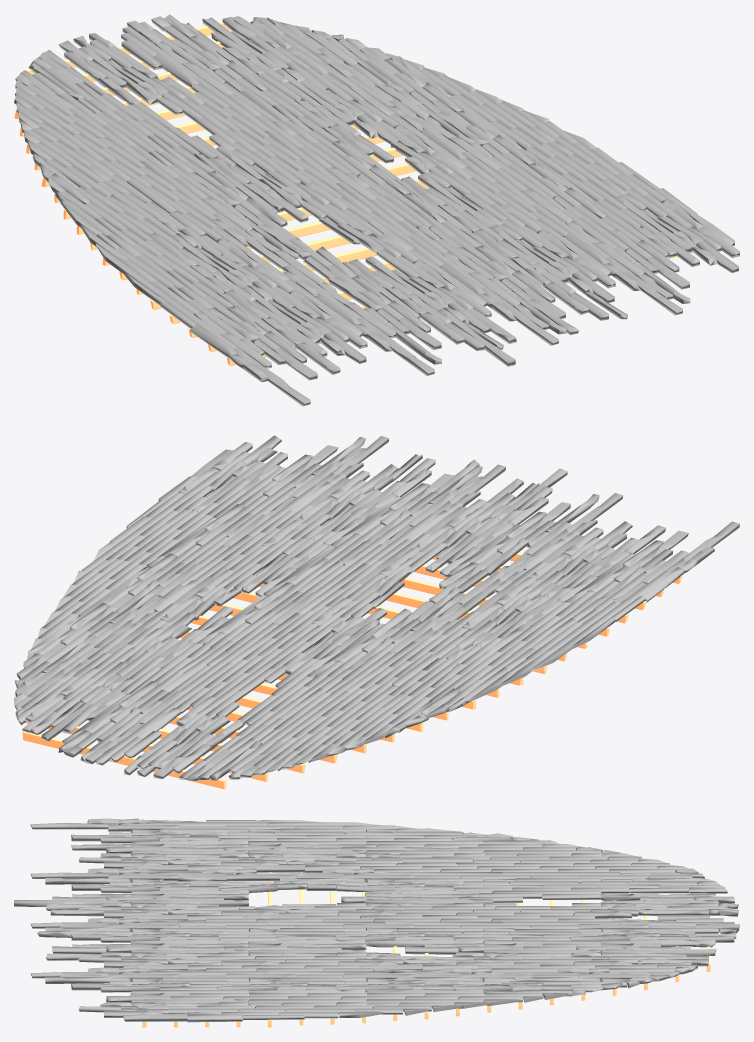
Rendered from SM_Floor_CannonBow.fbx.
3 renders of one model, top to bottom at view 1: azimuth 30°, elevation 25°; view 2: azimuth 150°, elevation 25°; view 3: azimuth 270°, elevation 25°, orthographic. The views are drawn at different scales.
Visible parts, largest first — view 1: SM_Floor_CannonBow_LOD0; view 2: SM_Floor_CannonBow_LOD0; view 3: SM_Floor_CannonBow_LOD0.
Boxes of the visible parts, bbox=[...] form: SM_Floor_CannonBow_LOD0: bbox=[14, 14, 739, 406]; SM_Floor_CannonBow_LOD0: bbox=[14, 435, 739, 789]; SM_Floor_CannonBow_LOD0: bbox=[14, 818, 739, 1027].
Bounding box in the file's own units: 1203 × 1853 × 39.31.
